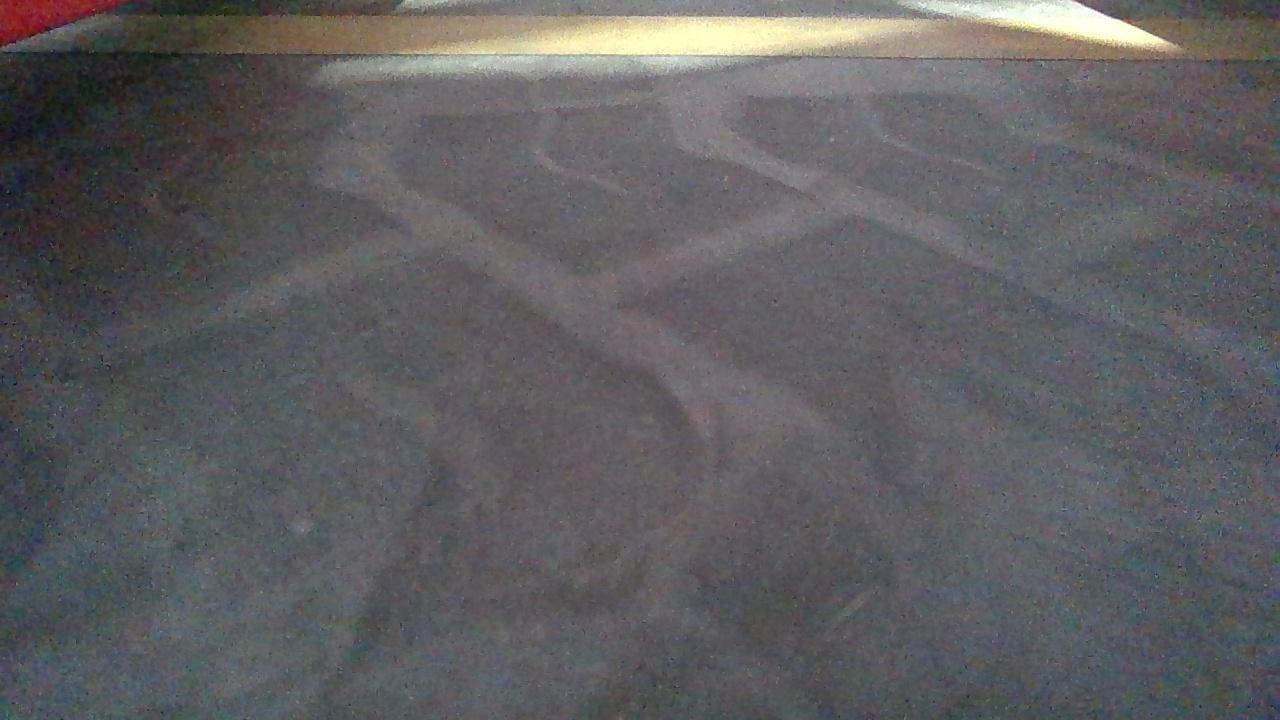yellow_line: (21, 12, 1280, 56)
